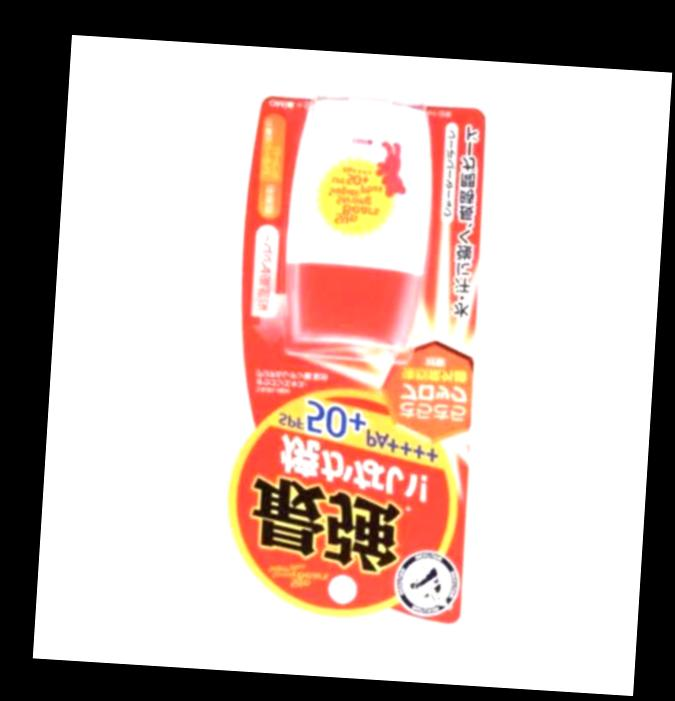cosmetic: (282, 89, 438, 350)
